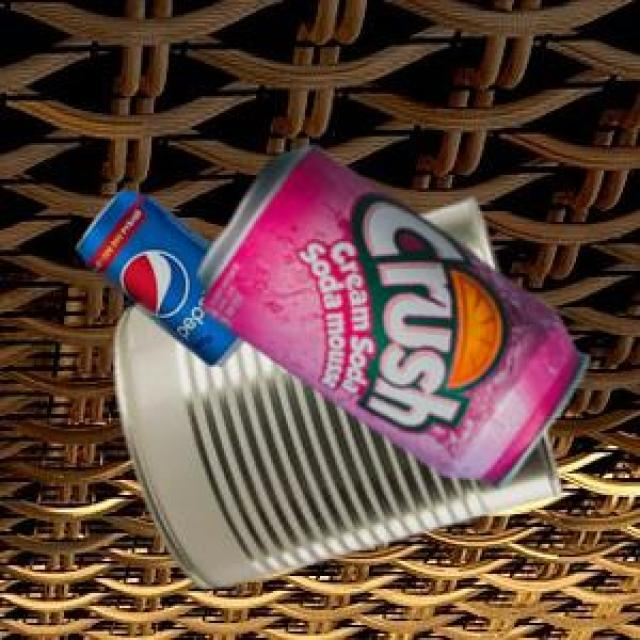logam: (112, 197, 558, 586), (195, 144, 586, 485), (74, 187, 242, 362)
